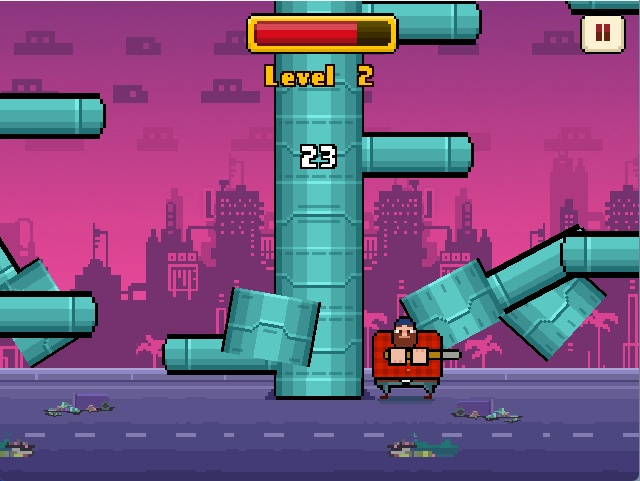right_obs: (355, 127, 478, 187)
timberman: (369, 303, 464, 403)
